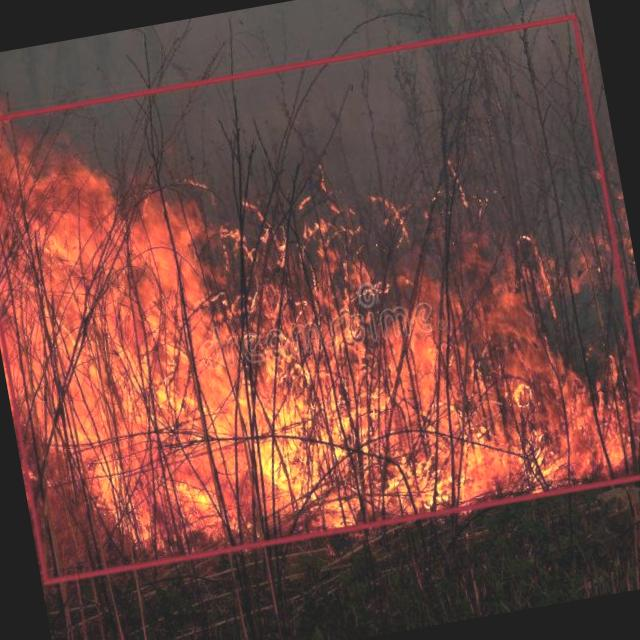fire: (0, 13, 640, 583)
